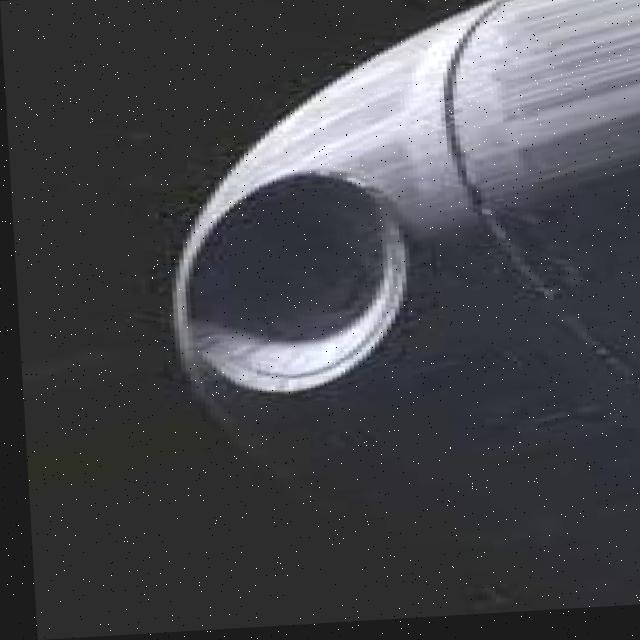deathstar: (156, 0, 640, 590)
